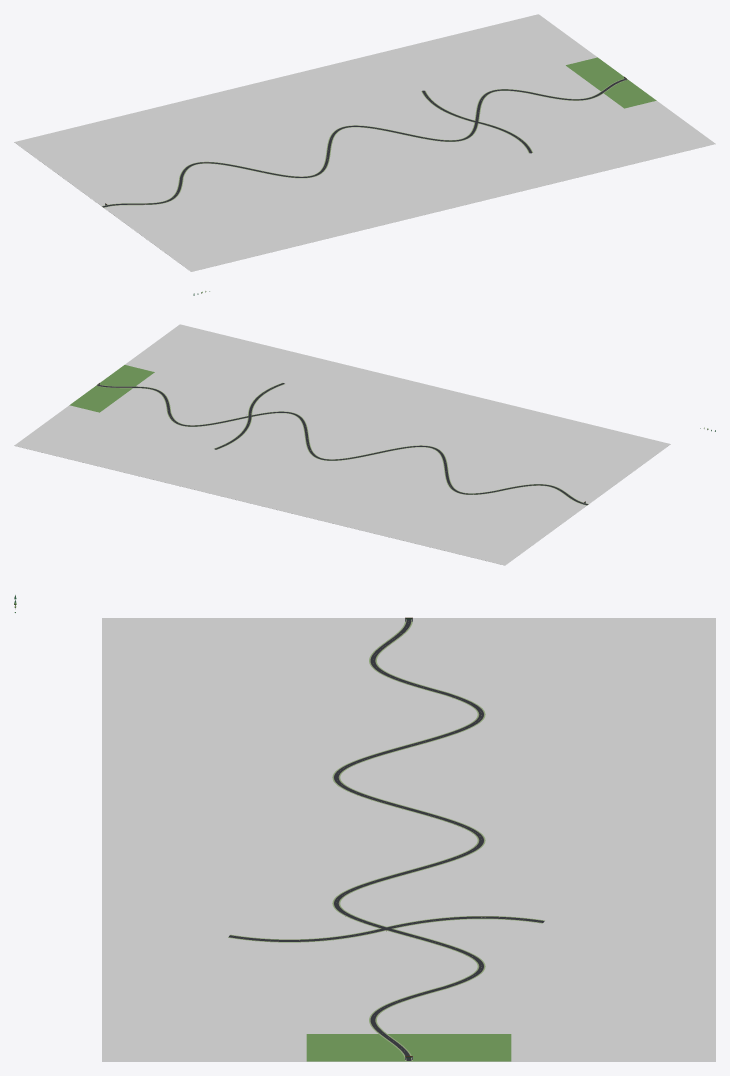
File: ForestRoad.fbx
3 views of the same model, one above another, from view 1: azimuth 30°, elevation 25°; view 2: azimuth 150°, elevation 25°; view 3: azimuth 270°, elevation 25° (orthographic). The views are drawn at different scales.
Visible parts, largest first — view 1: O_35_61_0, O_118_61_0, O_76_61_0, O_55_61_0, O_35_18_0, O_55_18_0, O_118_18_0, O_76_18_0, O_97_18_0, O_97_61_0, O_118_40_0, O_35_40_0 (+6 smaller); view 2: O_35_18_0, O_76_18_0, O_118_18_0, O_55_18_0, O_35_61_0, O_118_61_0, O_76_61_0, O_55_61_0, O_97_18_0, O_97_61_0, O_35_40_0, O_118_40_0 (+6 smaller); view 3: O_35_18_0, O_35_61_0, O_55_18_0, O_55_61_0, O_76_18_0, O_76_61_0, O_97_18_0, O_97_61_0, O_118_18_0, O_118_61_0, O_35_40_0, O_55_40_0 (+6 smaller).
Boxes of the visible parts, x1,y1,x2,y2 form: O_35_61_0: [132, 204, 289, 271]; O_118_61_0: [526, 108, 682, 175]; O_76_61_0: [329, 156, 486, 223]; O_55_61_0: [231, 180, 387, 247]; O_35_18_0: [14, 118, 171, 185]; O_55_18_0: [112, 94, 269, 161]; O_118_18_0: [408, 22, 564, 89]; O_76_18_0: [211, 70, 367, 137]; O_97_18_0: [309, 46, 466, 113]; O_97_61_0: [428, 132, 584, 199]; O_118_40_0: [467, 65, 623, 132]; O_35_40_0: [73, 161, 229, 228]; O_35_18_0: [413, 502, 559, 565]; O_76_18_0: [229, 457, 375, 520]; O_118_18_0: [44, 413, 191, 475]; O_55_18_0: [321, 480, 467, 542]; O_35_61_0: [524, 421, 670, 484]; O_118_61_0: [155, 331, 301, 394]; O_76_61_0: [339, 376, 486, 439]; O_55_61_0: [432, 399, 578, 461]; O_97_18_0: [136, 435, 283, 497]; O_97_61_0: [247, 354, 393, 416]; O_35_40_0: [468, 462, 615, 524]; O_118_40_0: [100, 372, 246, 434]; O_35_18_0: [511, 618, 715, 701]; O_35_61_0: [102, 618, 306, 701]; O_55_18_0: [511, 701, 715, 784]; O_55_61_0: [102, 701, 306, 784]; O_76_18_0: [511, 784, 715, 867]; O_76_61_0: [102, 784, 306, 867]; O_97_18_0: [511, 867, 715, 950]; O_97_61_0: [102, 867, 306, 950]; O_118_18_0: [511, 951, 715, 1033]; O_118_61_0: [102, 951, 306, 1033]; O_35_40_0: [306, 618, 511, 701]; O_55_40_0: [306, 701, 511, 784].
Bounding box in the file's own units: 5562 × 29.6 × 3567.
